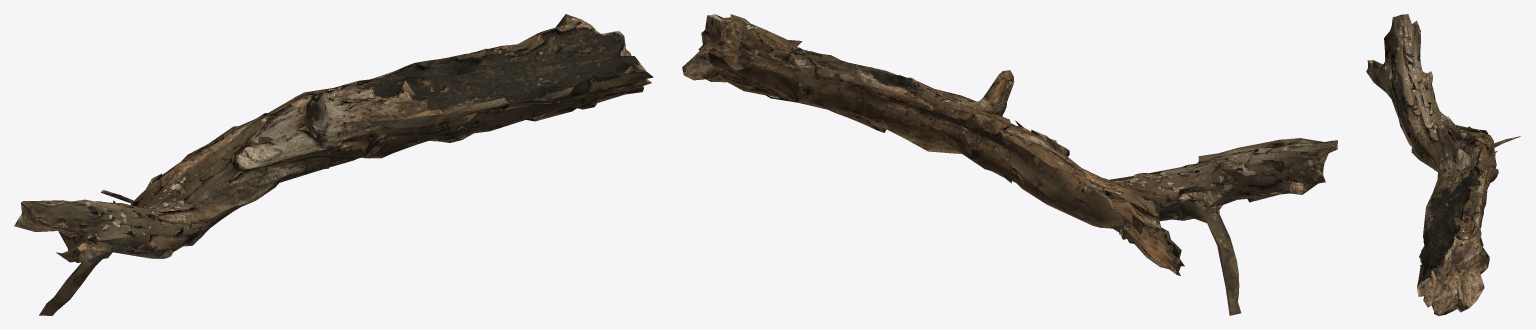
File: dead_tree_trunk_02.glb
The picture shows the model from 3 angles, left to right: view 1: azimuth 30°, elevation 25°; view 2: azimuth 150°, elevation 25°; view 3: azimuth 270°, elevation 25°; orthographic projection. The views are drawn at different scales.
Parts seen in each view (by area): view 1: dead_tree_trunk_02; view 2: dead_tree_trunk_02; view 3: dead_tree_trunk_02.
Part boxes in pixels (x1,y1,x2,y2): dead_tree_trunk_02: (14,14,653,315); dead_tree_trunk_02: (682,14,1337,315); dead_tree_trunk_02: (1366,14,1520,315).
Bounding box in the file's own units: 4.05 × 1.05 × 1.05.
Materials: 1 (1 with a texture image).
